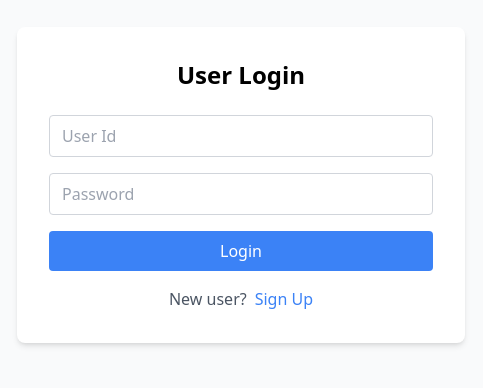
Test: Login Component › should display error when user ID is not supplied
What coordinates should you click on to do the following:
click the button "Login"
I would click on:
 (241, 251)
Its box is [49,231,433,271].
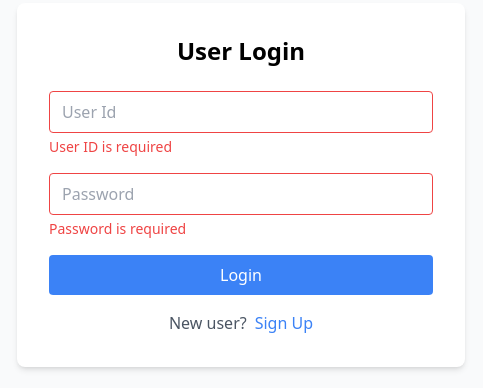
Now the text "User ID is required" is shown, box [49,137,172,156]
